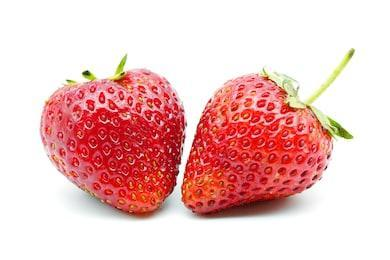Fresa: (180, 64, 340, 222), (36, 64, 187, 221)
